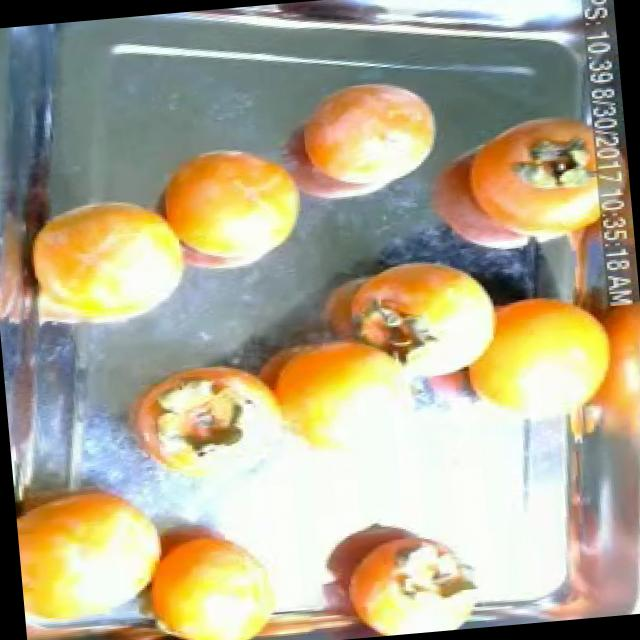Fruit: (5, 172, 204, 350), (249, 60, 459, 227), (138, 125, 326, 292), (336, 236, 514, 388)
